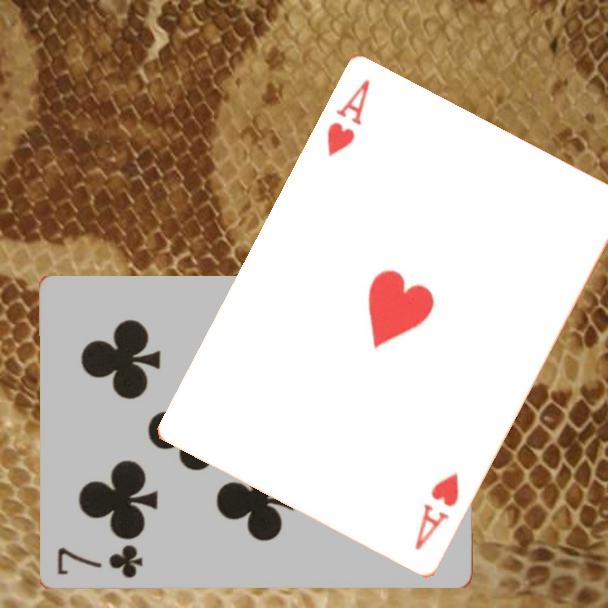c07: (53, 542, 145, 581)
h01: (411, 469, 462, 554), (323, 76, 373, 161)
